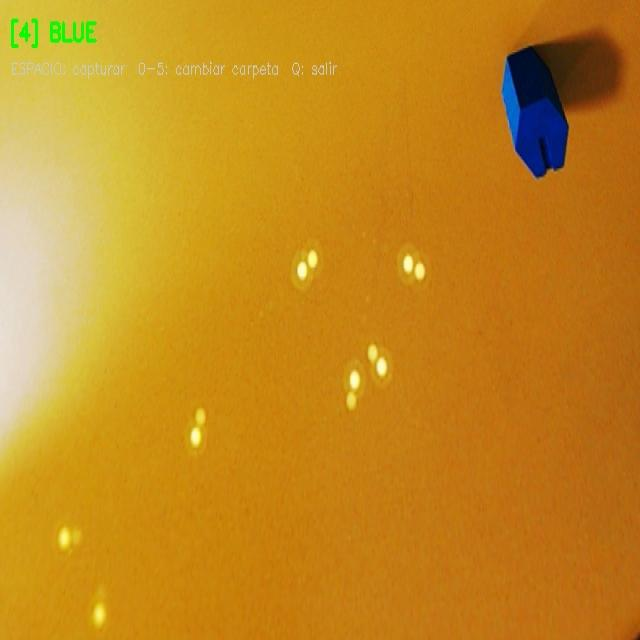blue: (502, 45, 568, 180)
